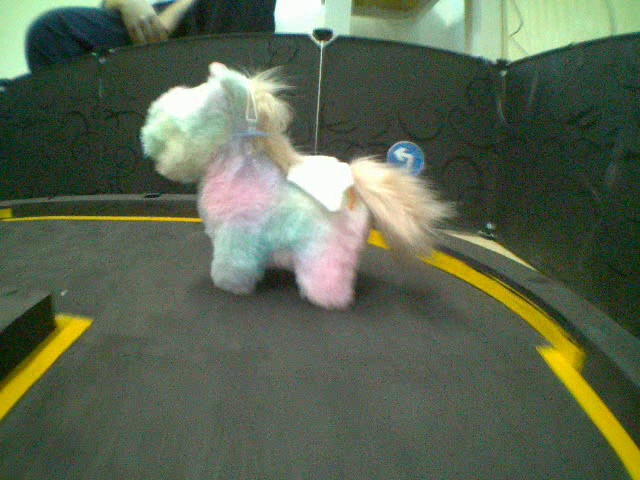unicorn: (128, 58, 452, 315)
